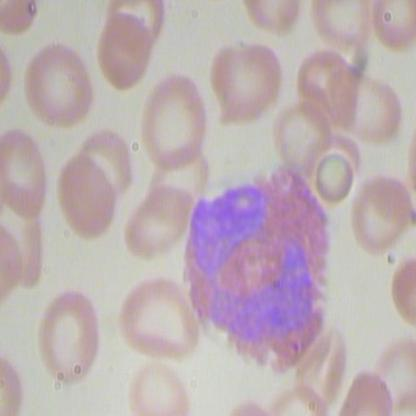RBC: (114, 273, 207, 361), (133, 72, 210, 176), (34, 288, 105, 392), (208, 36, 285, 130), (22, 42, 99, 135), (326, 63, 400, 147), (54, 151, 121, 241), (123, 183, 197, 261), (348, 170, 413, 256), (1, 122, 52, 224), (96, 12, 153, 92), (79, 125, 133, 198), (315, 153, 355, 208)
WBC: (170, 166, 337, 378)
